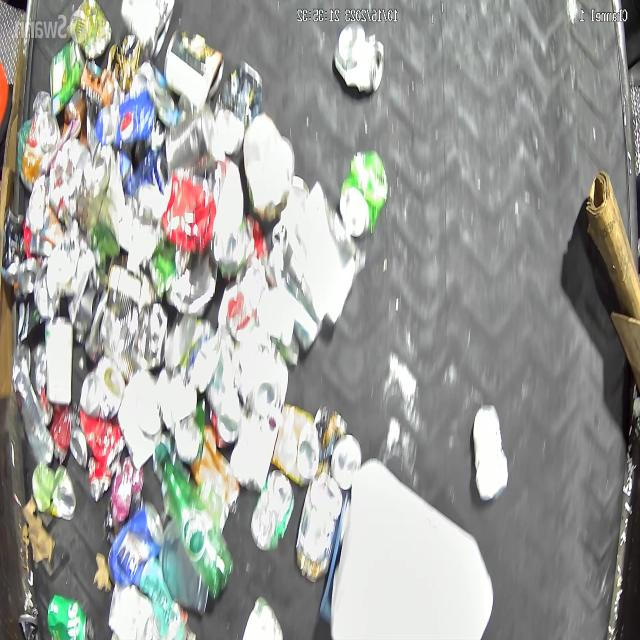can: (99, 262, 168, 383), (296, 471, 344, 584), (106, 500, 164, 588), (164, 26, 224, 110), (213, 61, 264, 158), (339, 149, 388, 238), (314, 404, 362, 490), (271, 403, 319, 488), (333, 20, 385, 96), (16, 111, 62, 195), (165, 104, 216, 176), (250, 469, 294, 552), (120, 0, 175, 64), (473, 404, 508, 502), (79, 402, 126, 470), (80, 357, 126, 418), (44, 316, 74, 406), (49, 39, 84, 116), (32, 463, 76, 521), (70, 0, 112, 60), (18, 208, 40, 298), (1, 205, 24, 286), (69, 403, 89, 470), (89, 458, 112, 502)
milk_jug: (330, 458, 493, 640)
